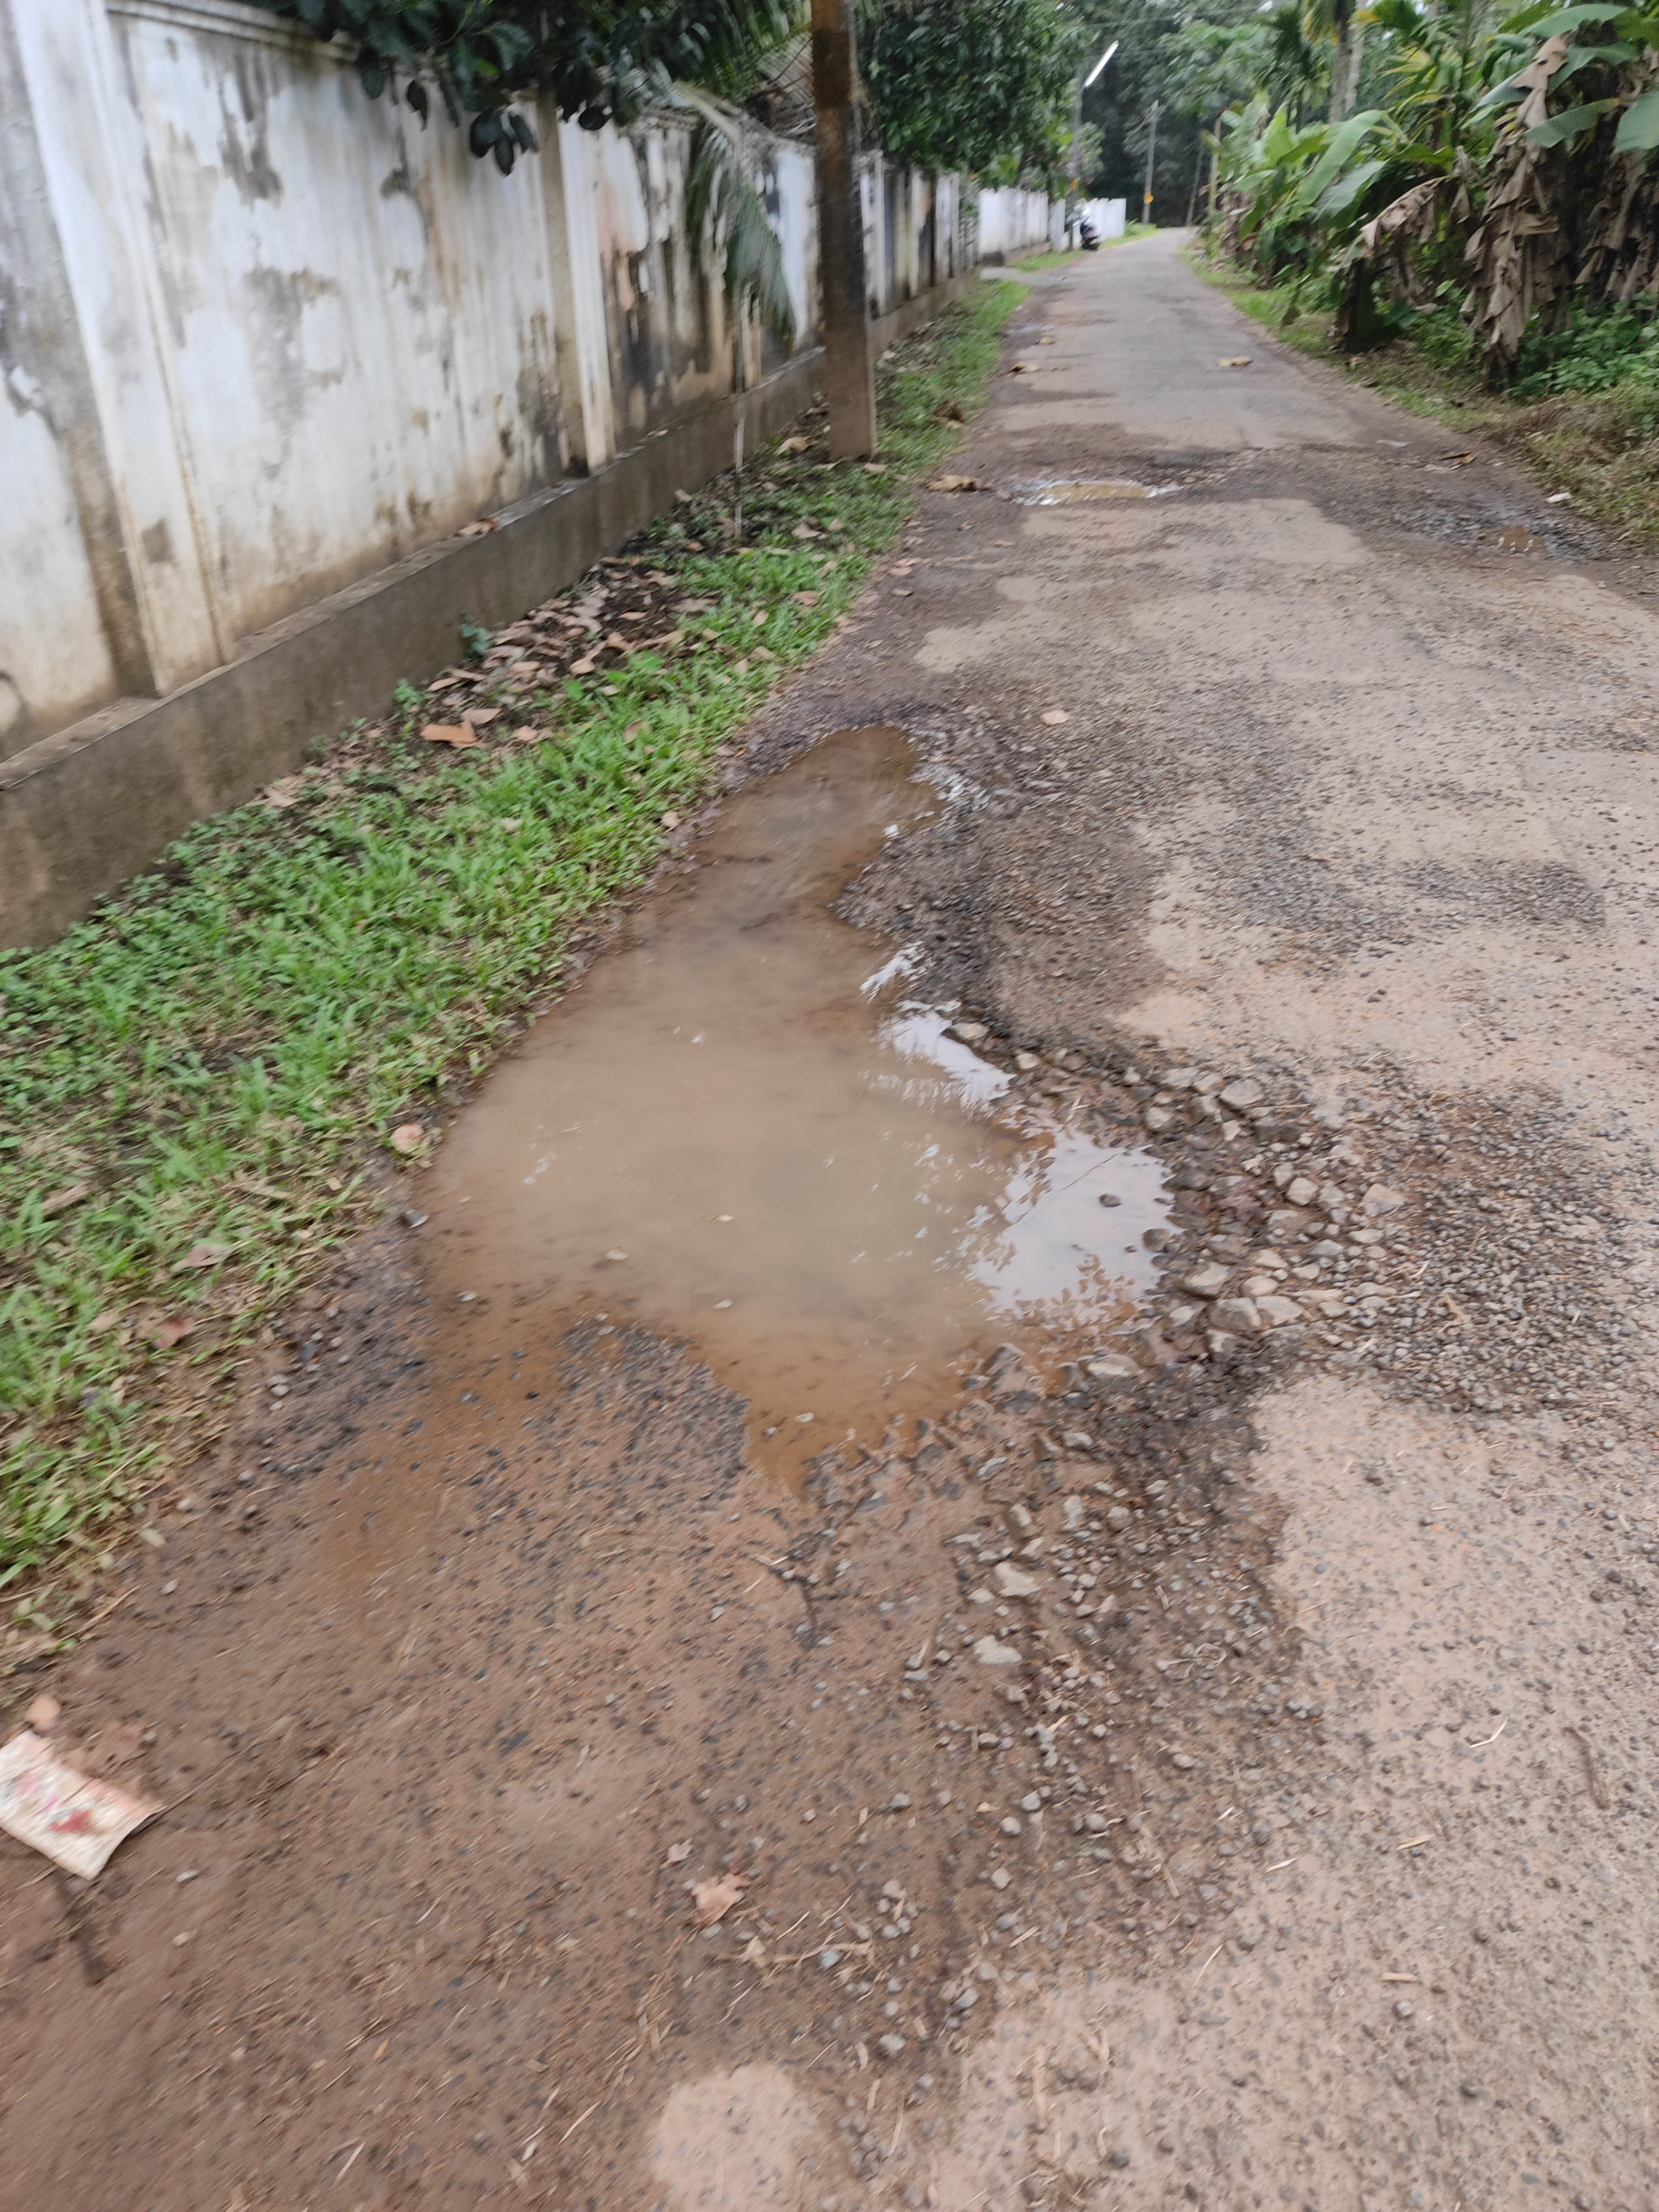potholes: (336, 690, 1284, 1554), (1321, 409, 1588, 578), (976, 448, 1249, 550)
